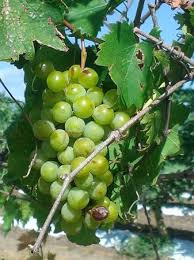Green grapes: (32, 57, 133, 236)
